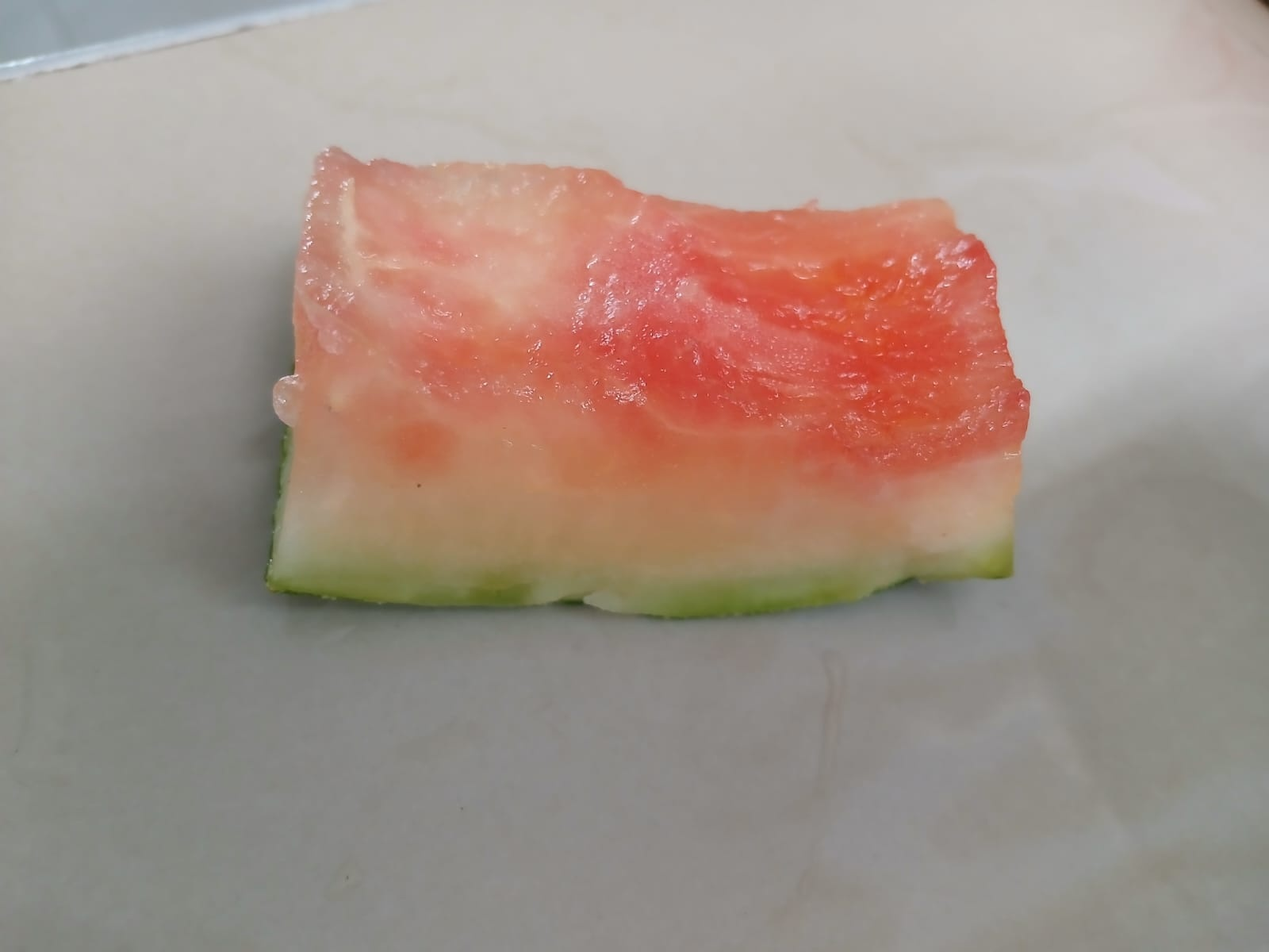Organico: (264, 146, 1029, 619)
